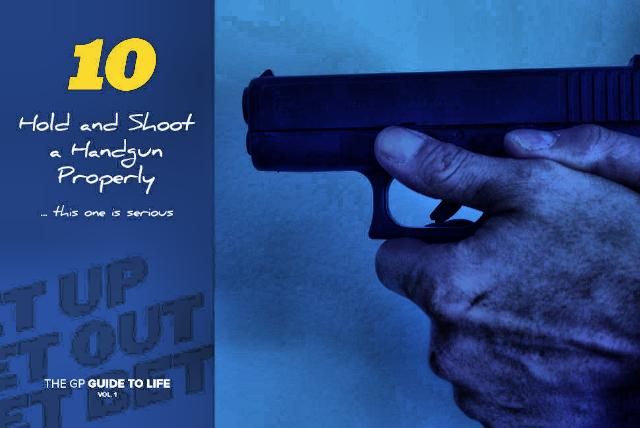pistol: (242, 49, 636, 253)
